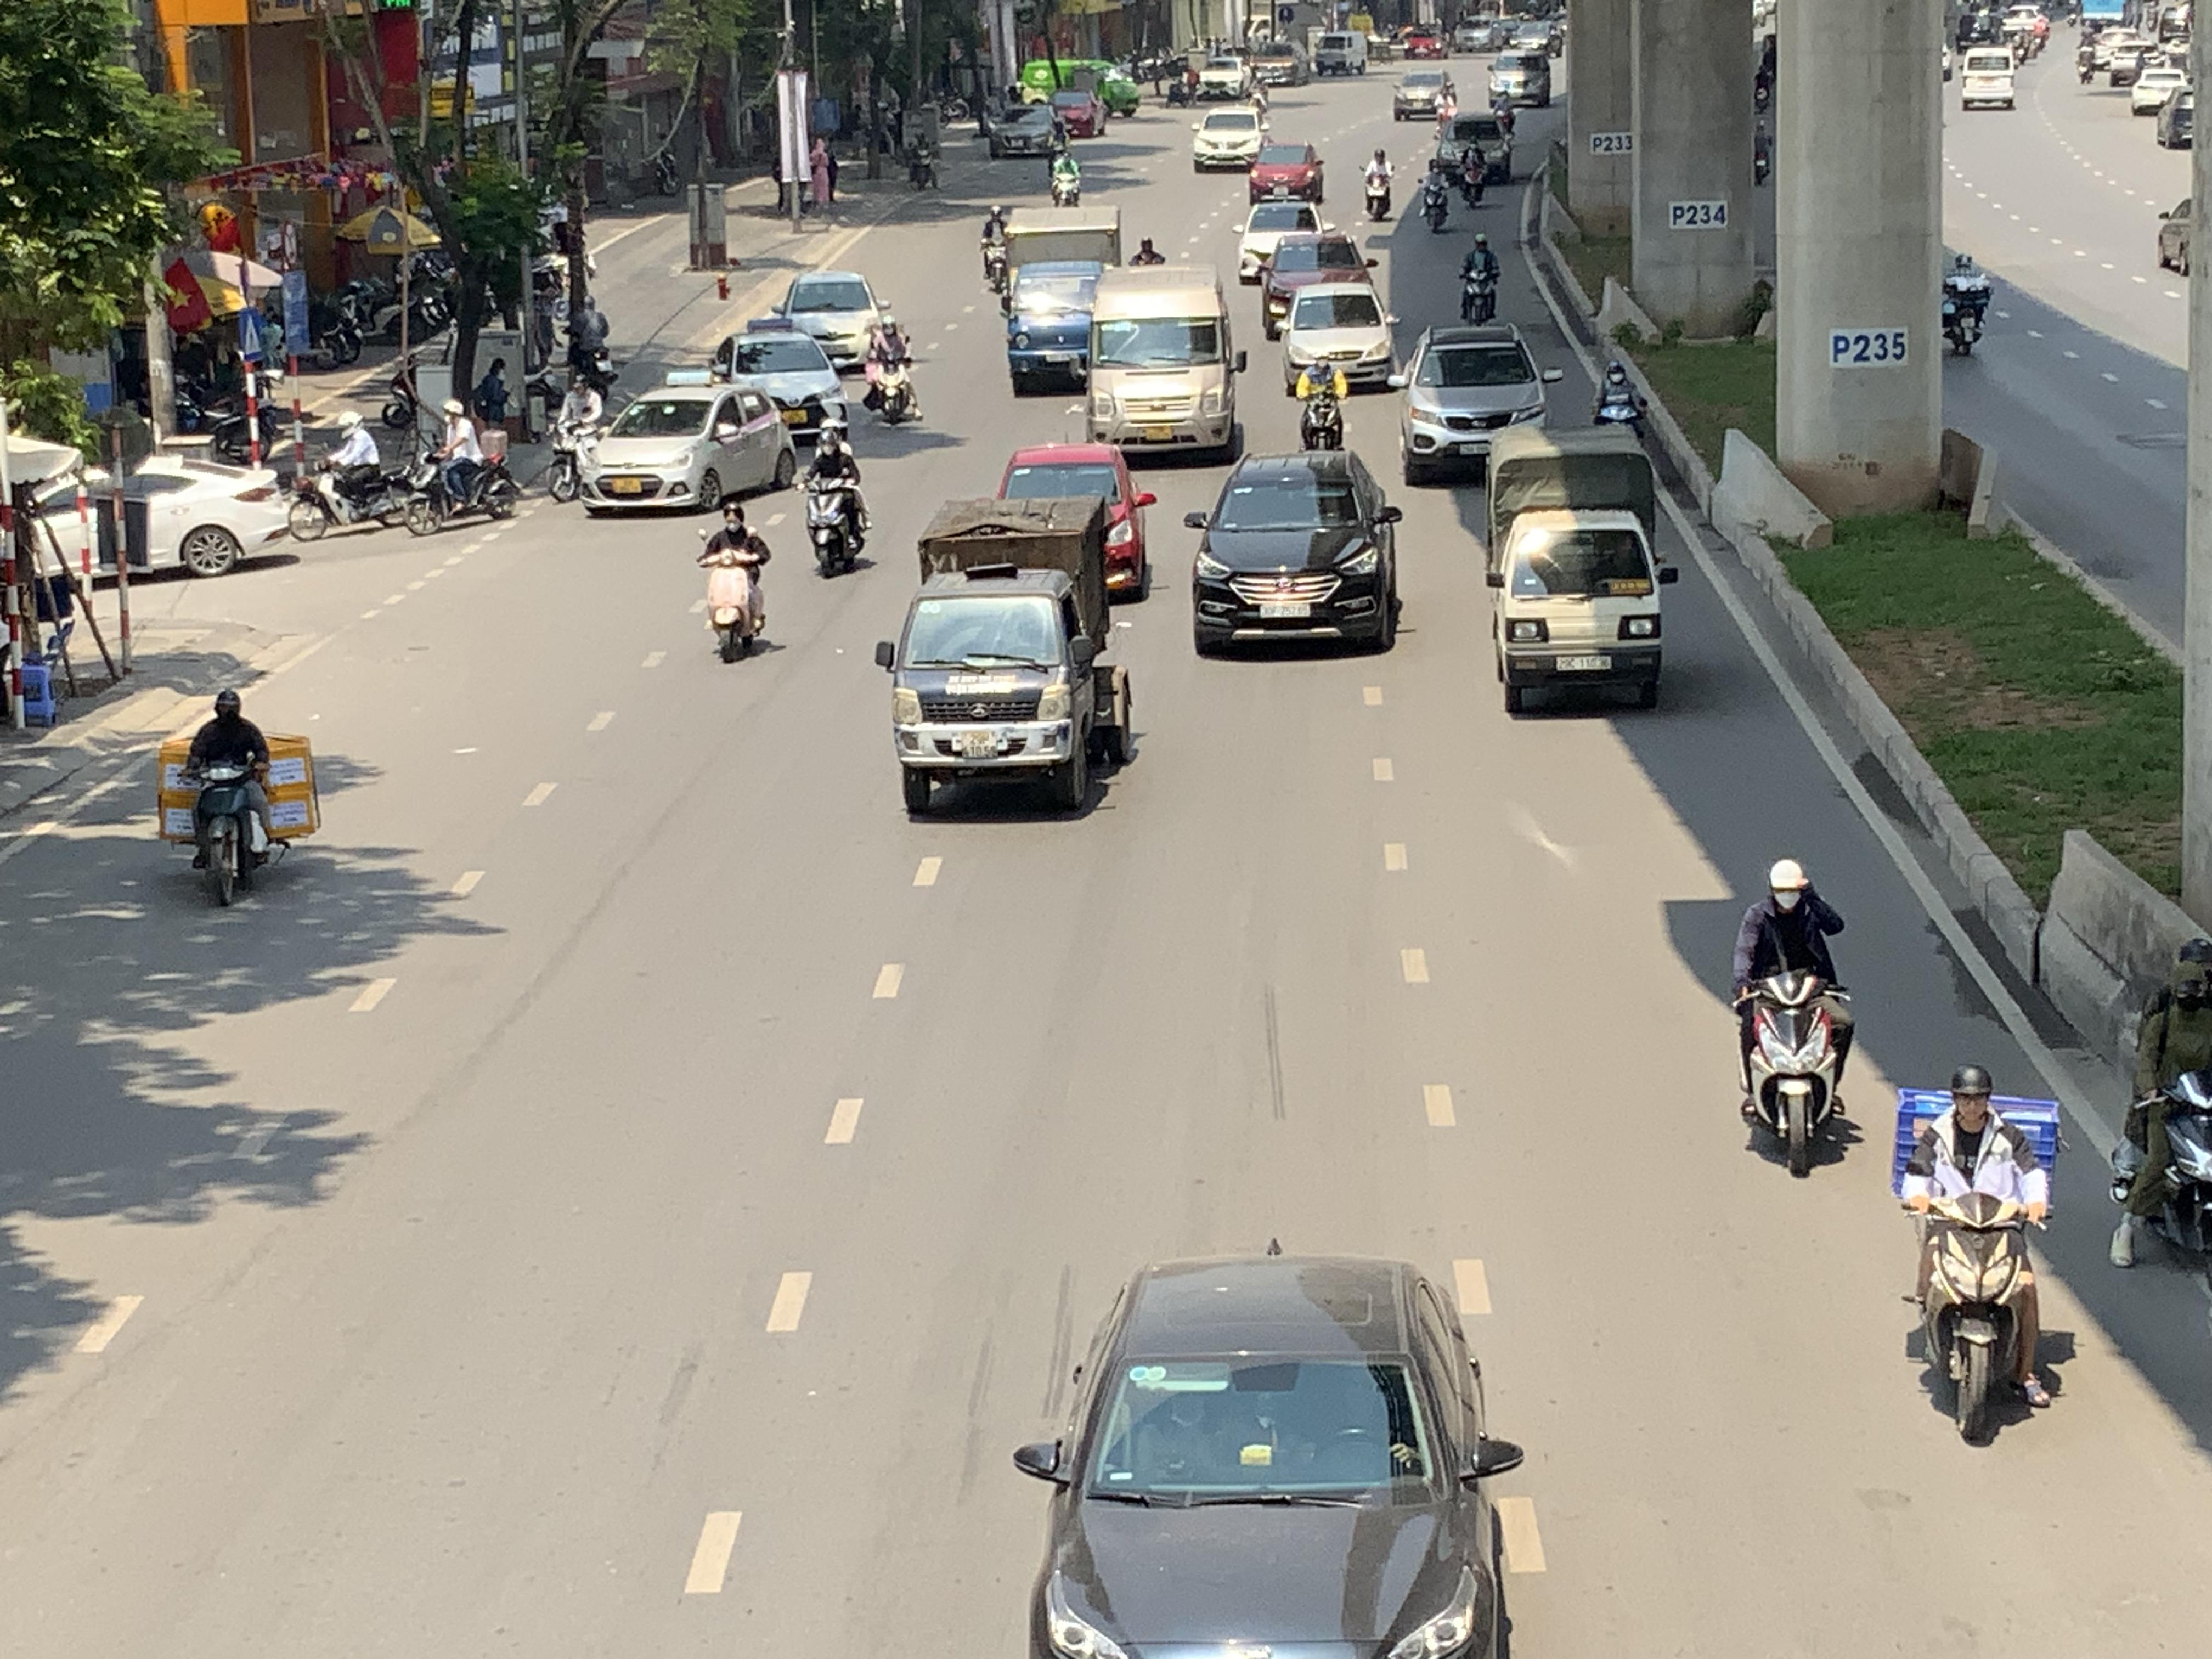BSV: (960, 730, 1000, 760), (613, 479, 641, 495)
bus: (1083, 267, 1249, 460)
car: (1012, 1251, 1529, 1659), (874, 573, 1137, 819), (1181, 448, 1407, 657), (1484, 505, 1679, 713), (578, 380, 798, 516), (993, 441, 1158, 601), (1395, 322, 1559, 483), (711, 328, 848, 434), (1278, 282, 1399, 396), (1259, 230, 1374, 342), (773, 270, 887, 369), (1237, 197, 1324, 281), (1435, 113, 1515, 181), (1245, 139, 1324, 207), (1191, 106, 1266, 171), (984, 105, 1064, 160), (1486, 51, 1552, 108), (1959, 47, 2017, 110), (1392, 66, 1456, 120), (1049, 87, 1106, 138), (2130, 68, 2189, 115), (2156, 85, 2195, 148)
motorbike: (1895, 1061, 2073, 1448), (1731, 857, 1858, 1180), (2107, 934, 2212, 1305), (167, 687, 289, 908), (286, 415, 418, 538), (406, 403, 519, 535), (698, 500, 772, 664), (803, 427, 871, 579), (545, 371, 606, 504), (864, 315, 921, 427), (1940, 244, 1993, 356), (1590, 349, 1649, 443), (1294, 354, 1350, 451), (566, 293, 618, 394), (1458, 232, 1501, 326), (977, 202, 1008, 295), (1360, 146, 1395, 221), (1418, 159, 1451, 234), (1460, 136, 1487, 207), (1050, 150, 1083, 207)
truck: (1000, 207, 1123, 396)
